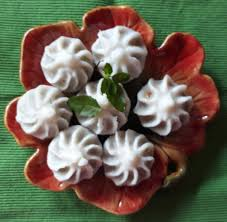modak: (139, 77, 199, 140), (67, 74, 131, 133), (40, 129, 106, 182), (92, 28, 158, 80), (43, 38, 95, 93), (106, 131, 155, 187), (19, 88, 74, 137)
